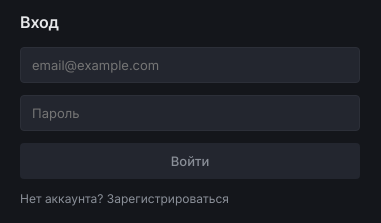
Scenario: LoginForm › в режиме входа короткий пароль не блокируется
In the field labelled "email": (190, 65) [20,47,360,83], type "me@example.com"
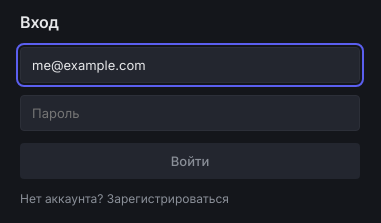
In the password field labelled "Пароль": (190, 113) [20,95,360,131], type "old"
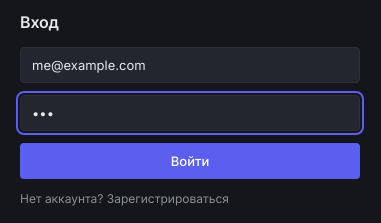
Now the button "Войти" is enabled, box [20,143,360,179]
